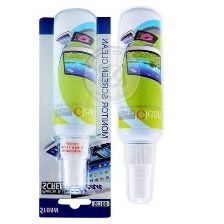book: (34, 14, 113, 222)
cleaning_solution: (112, 4, 165, 208), (48, 6, 99, 193)
